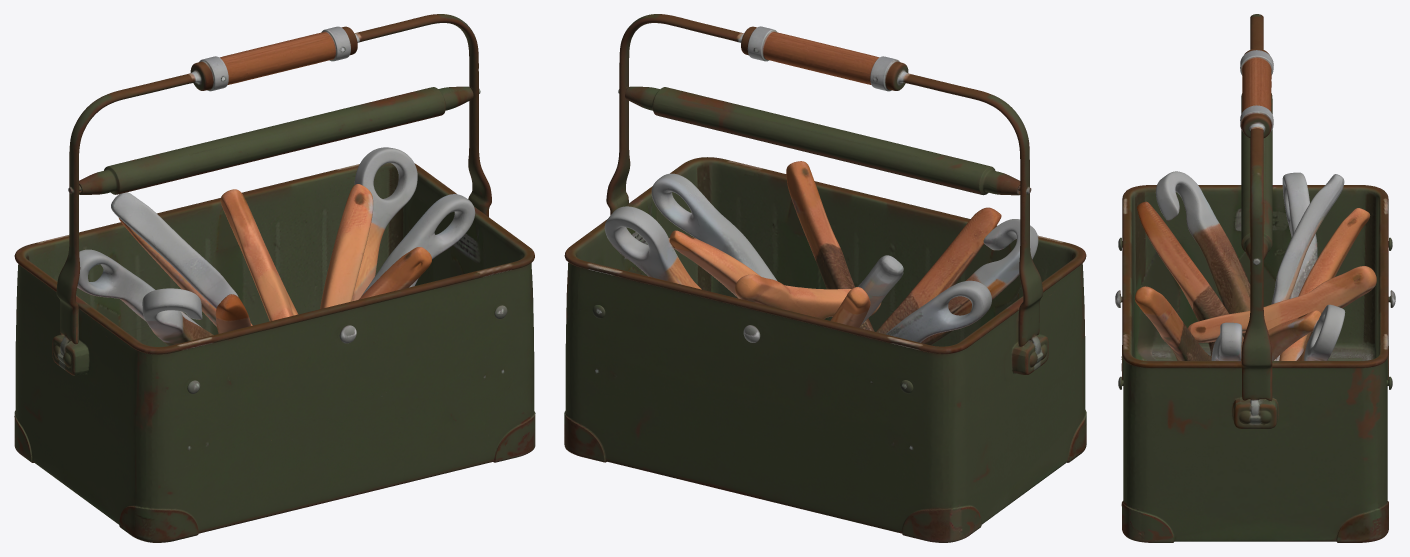
The model's file is OldWorkerToolbox.glb.
The picture shows the model from 3 angles, left to right: view 1: azimuth 30°, elevation 25°; view 2: azimuth 150°, elevation 25°; view 3: azimuth 270°, elevation 25°; orthographic projection. The views are drawn at different scales.
Size of the model in its own units: 1.89 by 1.7 by 1.16.
1 material, 1 textured.
